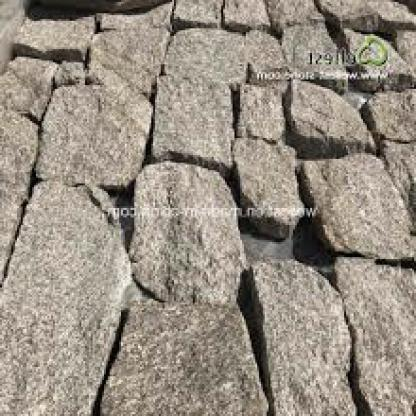Metamorphic_Quartize: (2, 168, 134, 414), (119, 280, 255, 414), (125, 155, 246, 301), (246, 250, 352, 414), (32, 85, 161, 187), (325, 270, 415, 403), (305, 151, 414, 259), (148, 68, 238, 176), (85, 13, 178, 108), (227, 125, 308, 227), (165, 21, 259, 98)
